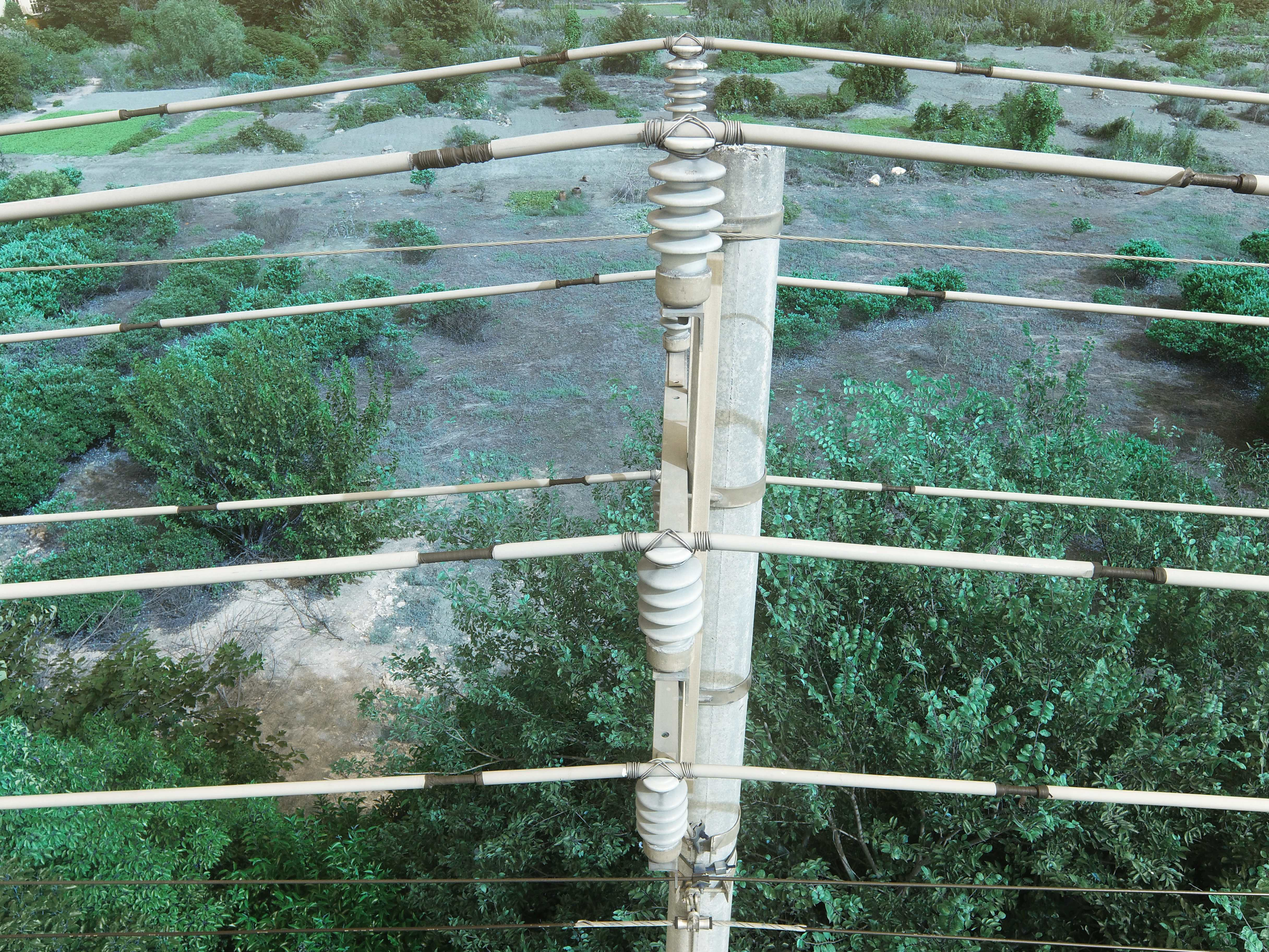severe_soiling_no_discharge_whole: (662, 45, 710, 121)
